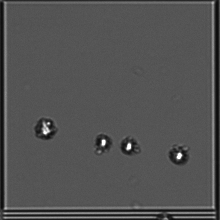Living Cell: (166, 141, 195, 170), (32, 115, 60, 143), (91, 131, 116, 156), (119, 135, 143, 159)
